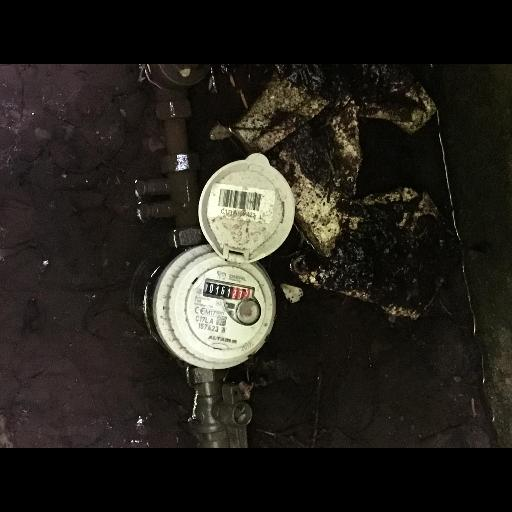0: (203, 282, 210, 294), (209, 283, 216, 295)
1: (214, 284, 221, 297), (226, 286, 233, 299)
2: (231, 287, 238, 300)
3: (237, 288, 244, 301)
5: (242, 288, 250, 301)
6: (219, 285, 227, 298)
border_water_meter_number: (202, 280, 254, 305)
